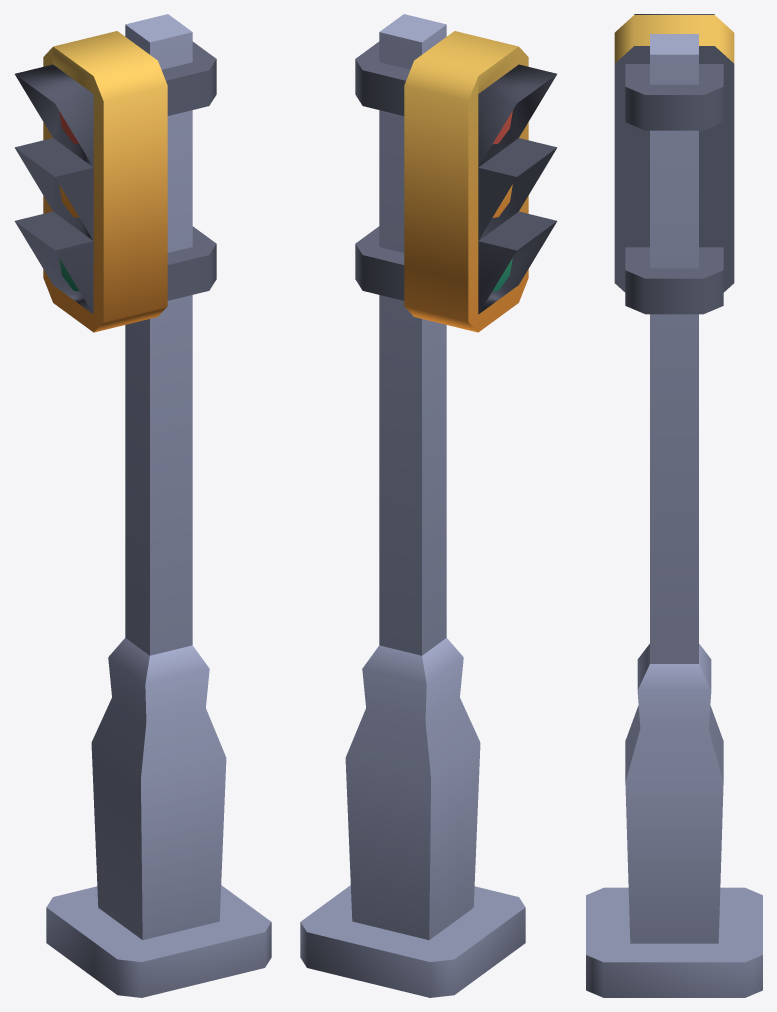
Rendered from kenney-traffic-light.glb.
The picture shows the model from 3 angles, left to right: view 1: azimuth 30°, elevation 25°; view 2: azimuth 150°, elevation 25°; view 3: azimuth 270°, elevation 25°; orthographic projection.
Visible parts, largest first — view 1: traffic-light; view 2: traffic-light; view 3: traffic-light.
Boxes of the visible parts, left/top/right/bottom form: traffic-light: left=14, top=14, right=271, bottom=997; traffic-light: left=300, top=14, right=557, bottom=997; traffic-light: left=586, top=14, right=762, bottom=997.
Bounding box in the file's own units: 0.1176 × 0.515 × 0.09.
Materials: 1 (1 with a texture image).
